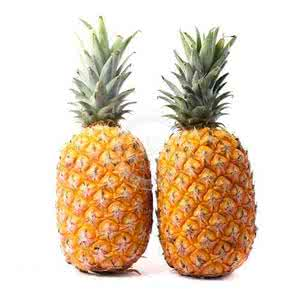pineapple: (155, 23, 262, 280), (55, 13, 153, 279)
